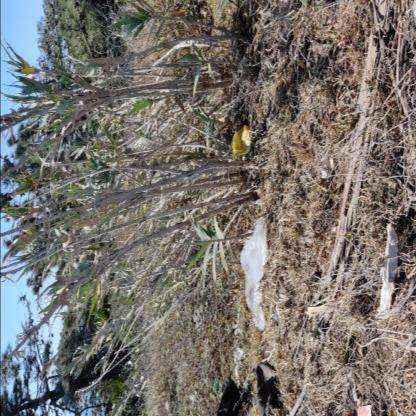Plastic bag - wrapper: (239, 219, 267, 330), (231, 125, 250, 159), (352, 378, 361, 405), (193, 307, 201, 327)
Unlabeled litter: (378, 224, 398, 315), (254, 362, 279, 415), (233, 315, 245, 390), (321, 158, 333, 178), (213, 377, 221, 398), (270, 304, 278, 324), (356, 406, 371, 416)
